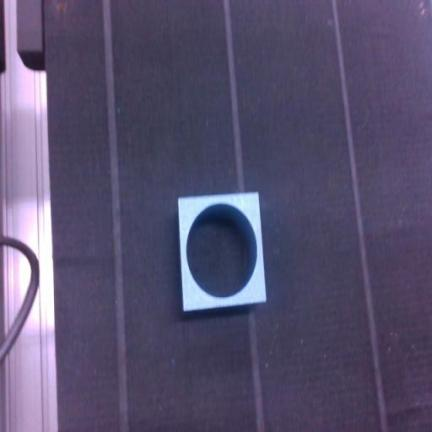hole: (179, 193, 265, 311)
